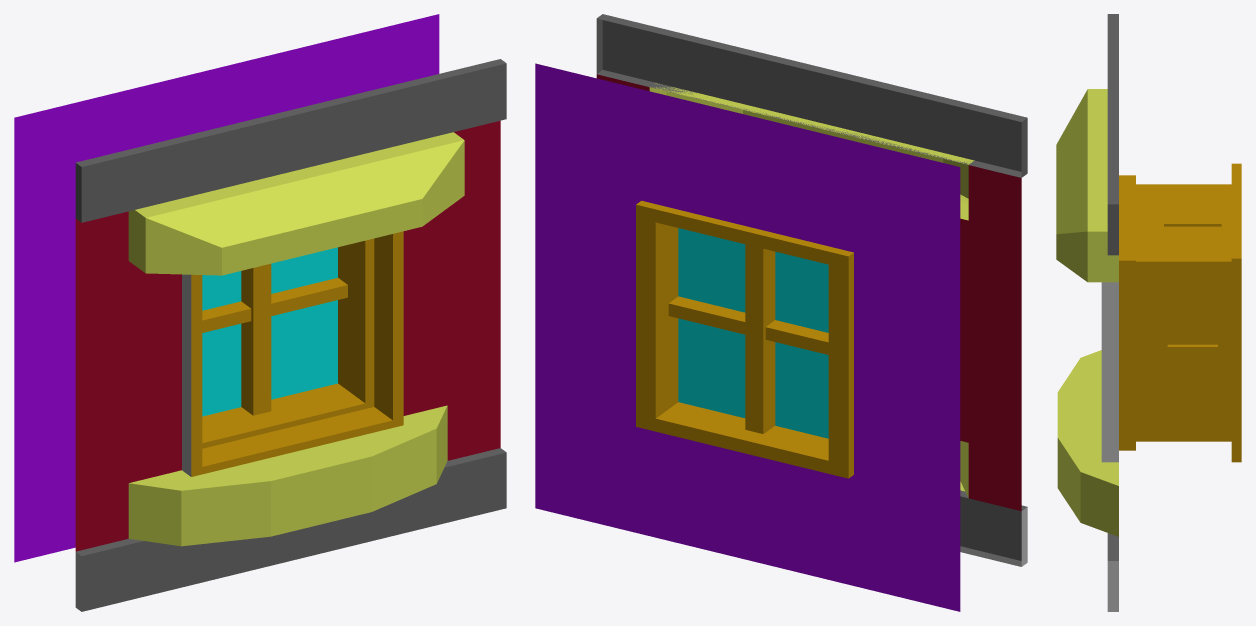
File: Window_02_1x1.fbx
3 views of the same model, side by side, from view 1: azimuth 30°, elevation 25°; view 2: azimuth 150°, elevation 25°; view 3: azimuth 270°, elevation 25° (orthographic). The views are drawn at different scales.
Visible parts, largest first — view 1: Window_02_1x1; view 2: Window_02_1x1; view 3: Window_02_1x1.
Boxes of the visible parts, x1,y1,x2,y2 form: Window_02_1x1: [14, 14, 506, 611]; Window_02_1x1: [535, 14, 1027, 611]; Window_02_1x1: [1056, 14, 1241, 611].
Size of the model in its own units: 1 by 1 by 0.4112.
